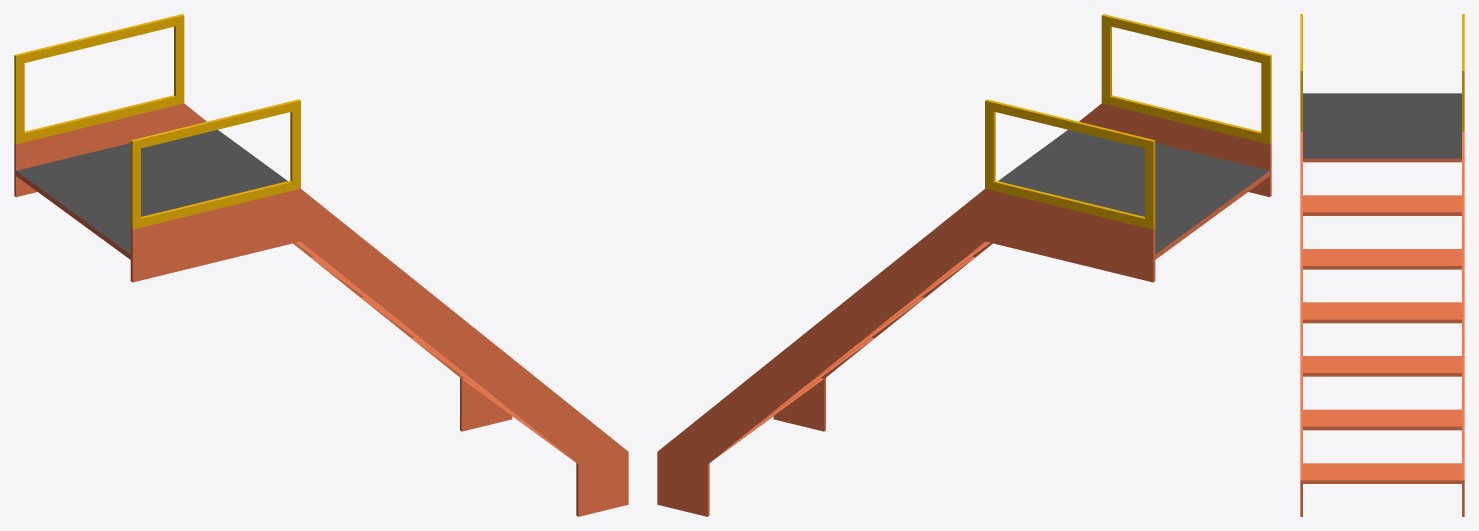
The model's file is Prop_Industrial_Platform_Walkway_Narrow_Steps_w_Platform_04.FBX.
3 renders of one model, left to right at view 1: azimuth 30°, elevation 25°; view 2: azimuth 150°, elevation 25°; view 3: azimuth 270°, elevation 25°, orthographic. The views are drawn at different scales.
Parts seen in each view (by area): view 1: Prop_Industrial_Platform_Walkway_Narrow_Steps_w_Platform_04; view 2: Prop_Industrial_Platform_Walkway_Narrow_Steps_w_Platform_04; view 3: Prop_Industrial_Platform_Walkway_Narrow_Steps_w_Platform_04.
Boxes of the visible parts, x1,y1,x2,y2 form: Prop_Industrial_Platform_Walkway_Narrow_Steps_w_Platform_04: [14, 14, 628, 516]; Prop_Industrial_Platform_Walkway_Narrow_Steps_w_Platform_04: [657, 14, 1271, 516]; Prop_Industrial_Platform_Walkway_Narrow_Steps_w_Platform_04: [1300, 14, 1464, 516].
Bounding box in the file's own units: 5900 × 5500 × 2440.
